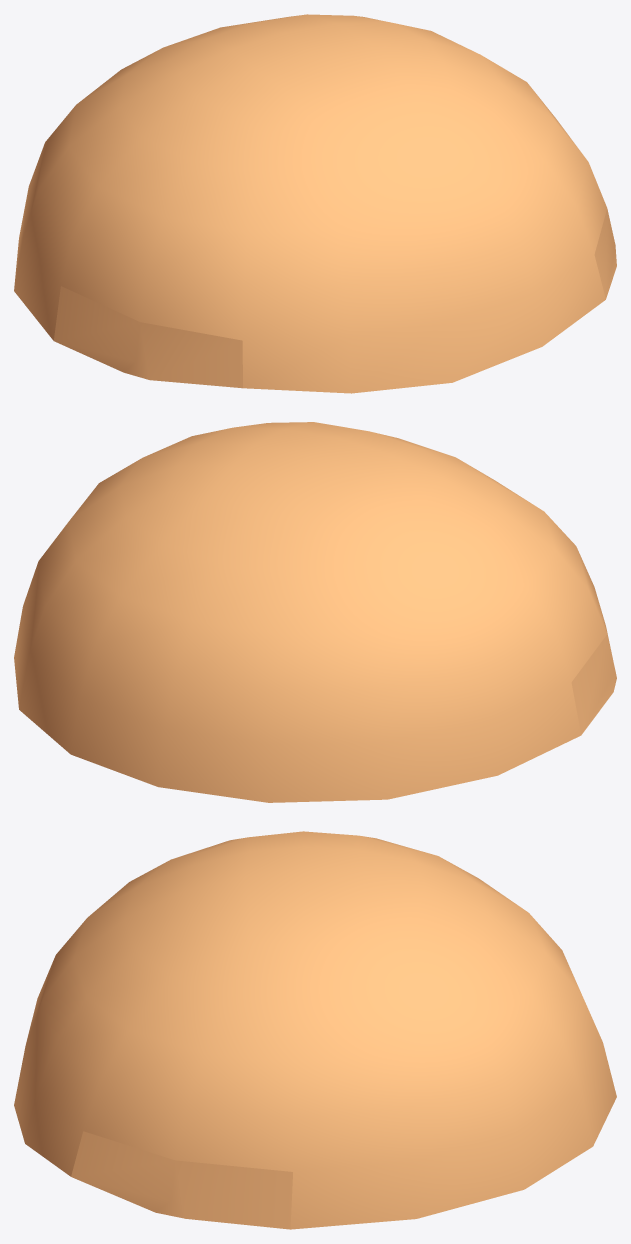
File: hair2.fbx
3 renders of one model, top to bottom at view 1: azimuth 30°, elevation 25°; view 2: azimuth 150°, elevation 25°; view 3: azimuth 270°, elevation 25°, orthographic. The views are drawn at different scales.
Parts seen in each view (by area): view 1: Object001; view 2: Object001; view 3: Object001.
Boxes of the visible parts, x1=… form: Object001: x1=14, y1=14, x2=616, y2=393; Object001: x1=14, y1=422, x2=616, y2=802; Object001: x1=14, y1=831, x2=616, y2=1229.
Bounding box in the file's own units: 15.78 × 15.25 × 6.65.
